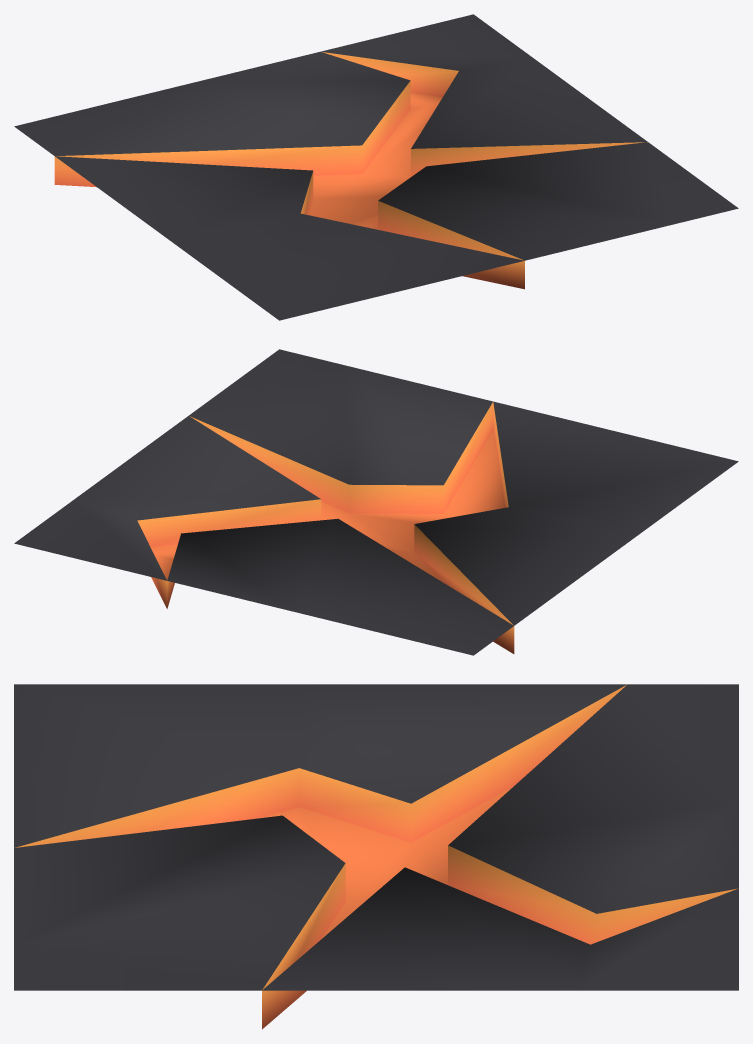
File: Fire-Floor-Cracked.fbx
3 renders of one model, top to bottom at view 1: azimuth 30°, elevation 25°; view 2: azimuth 150°, elevation 25°; view 3: azimuth 270°, elevation 25°, orthographic. The views are drawn at different scales.
Visible parts, largest first — view 1: Floor Cracked; view 2: Floor Cracked; view 3: Floor Cracked.
Boxes of the visible parts, <box> form: Floor Cracked: <box>14,14,738,320</box>; Floor Cracked: <box>14,349,738,655</box>; Floor Cracked: <box>14,684,738,1029</box>.
Size of the model in its own units: 1 by 0.0596 by 1.
